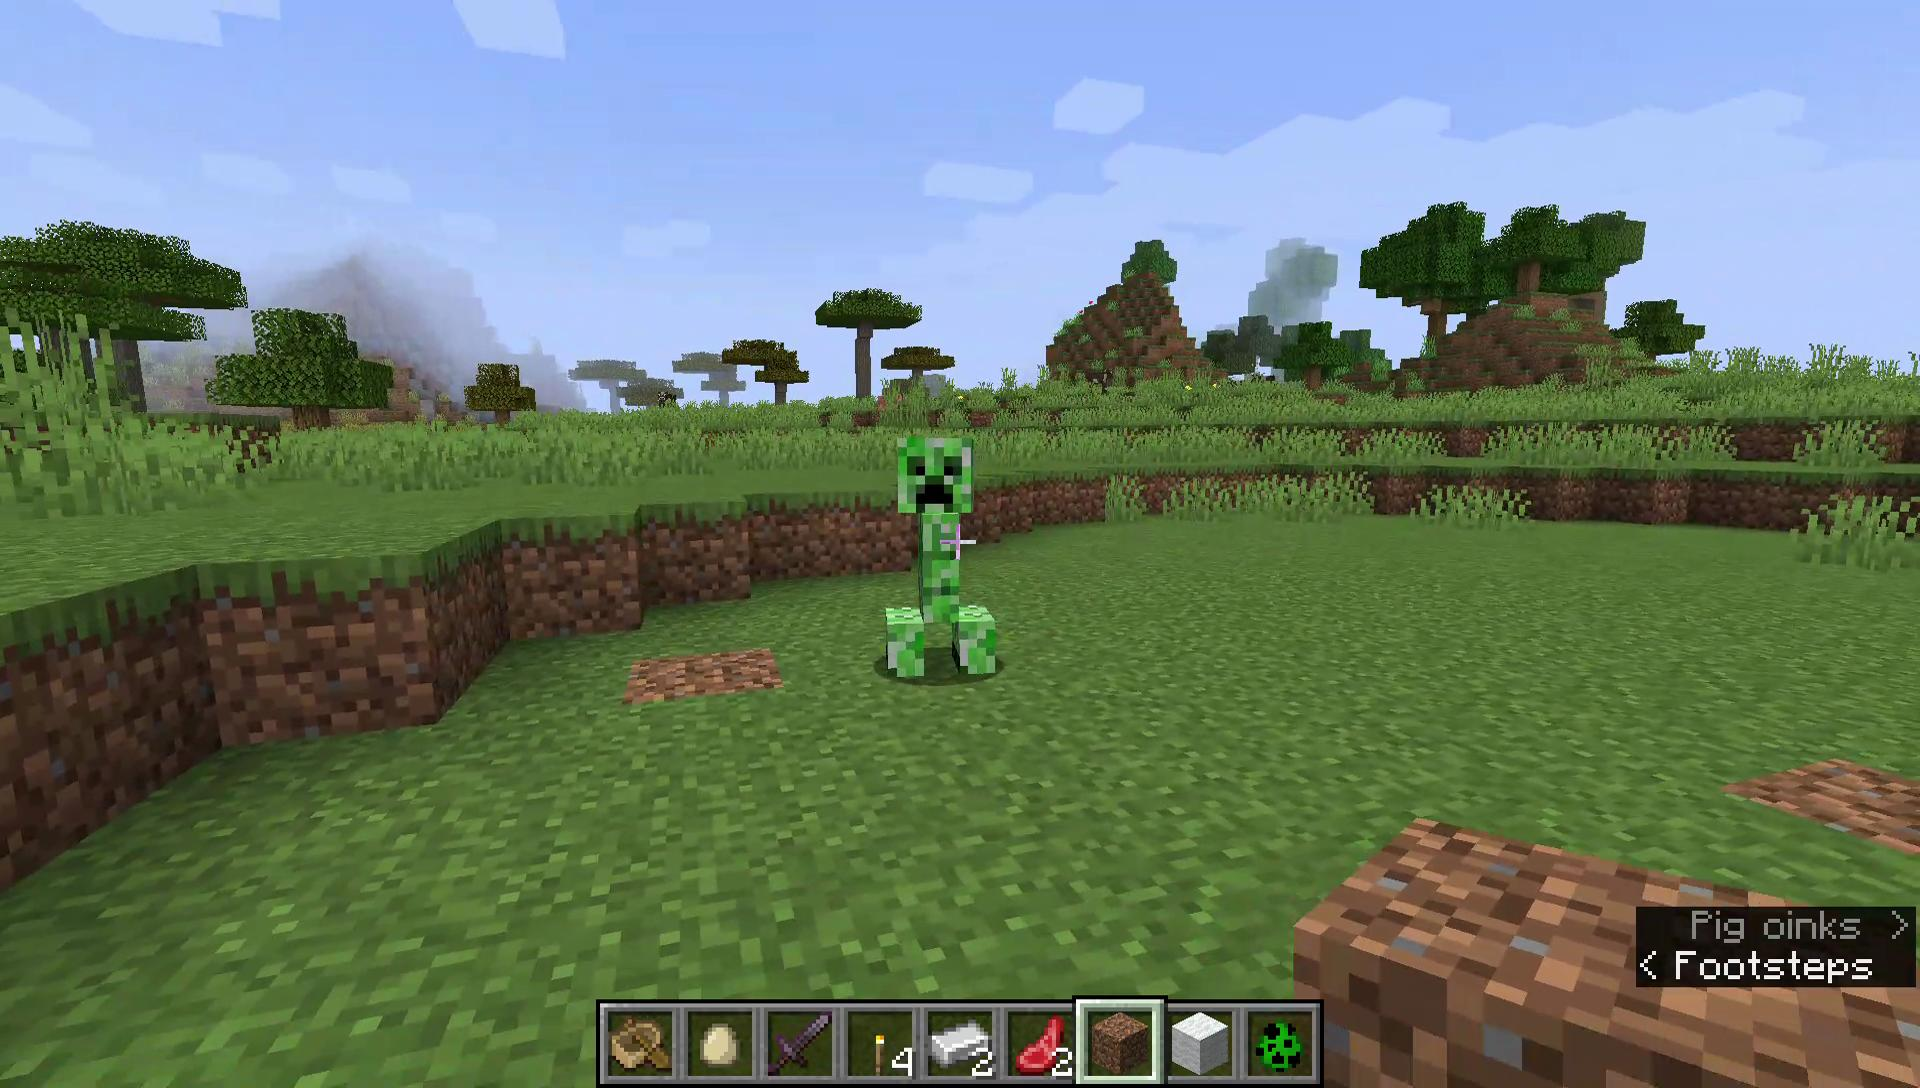creeper: (881, 429, 1006, 686)
